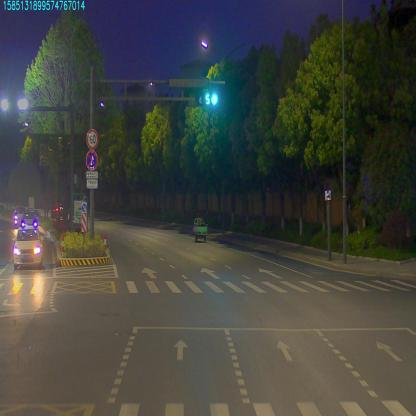traffic-light: (201, 91, 220, 108)
